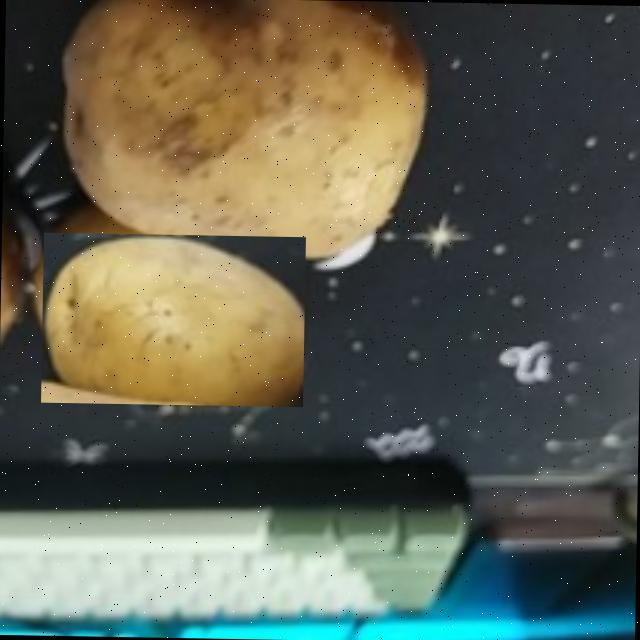Damaged potato: (59, 0, 442, 254)
Potato: (41, 232, 306, 407)
